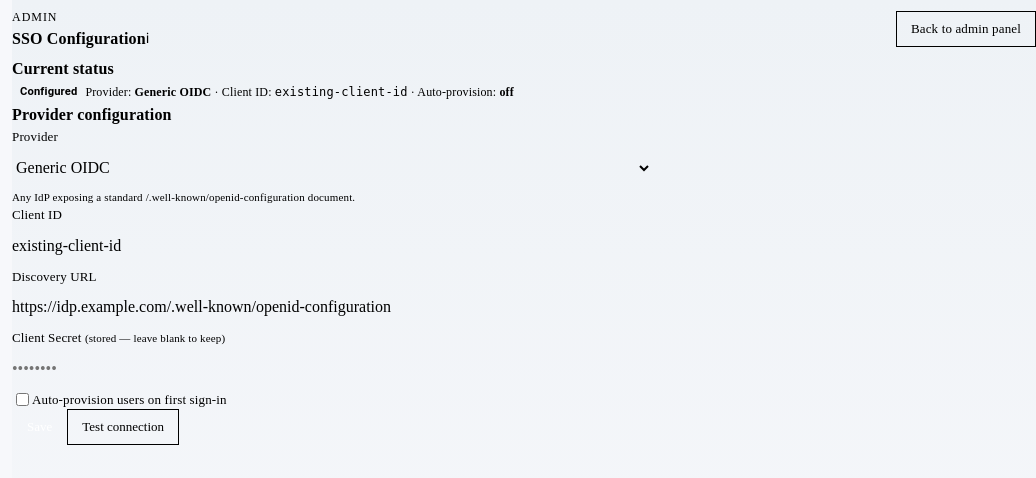
Test case: SsoAdminPage (NEW-LGL-2) › shows the backend error message when test connection fails
Click the button with test id "sso-test-button".
click(123, 427)  # box [67,409,179,445]
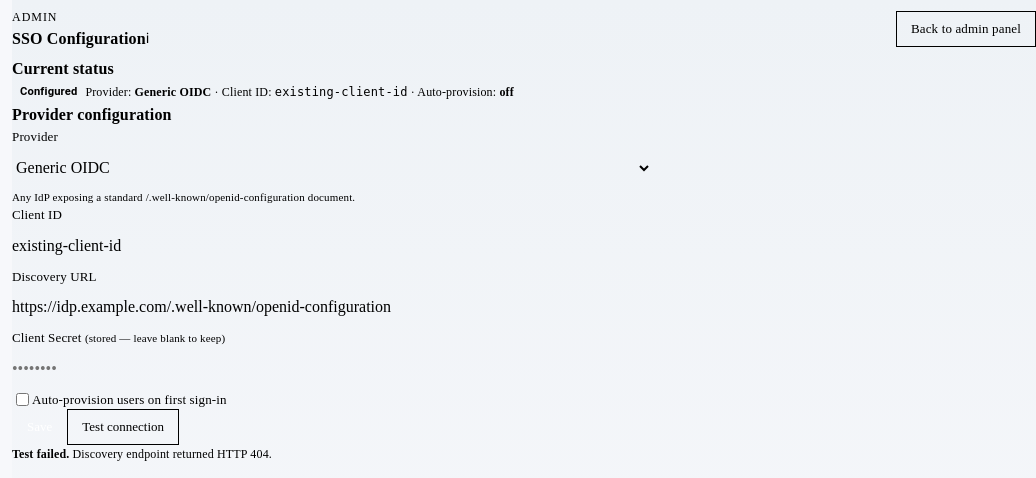
Expected: the element with test id "sso-test-result" shows "Test failed.", [12,447,69,461]
Expected: the element with test id "sso-test-result" shows "HTTP 404", [72,447,272,461]
